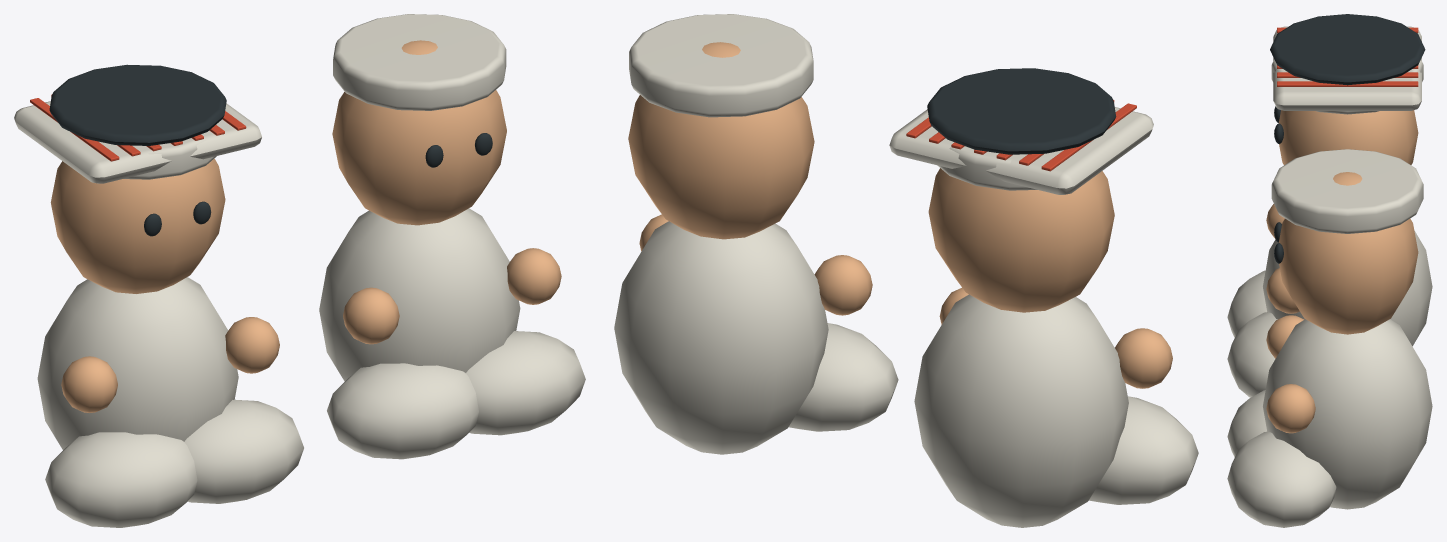
The model's file is NJD-22.glb.
3 views of the same model, side by side, from view 1: azimuth 30°, elevation 25°; view 2: azimuth 150°, elevation 25°; view 3: azimuth 270°, elevation 25° (orthographic). The views are drawn at different scales.
Visible parts, largest first — view 1: seated thobe, seated thobe.001, head.001, head, white cap.001, folded knee.002, folded knee, igal, folded knee.003, folded knee.001, shemagh cloth, hand (+4 smaller); view 2: seated thobe.001, seated thobe, head.001, head, white cap.001, igal, folded knee.002, folded knee, shemagh cloth, hand.002, hand, white cap; view 3: seated thobe.001, head.001, white cap.001, igal, folded knee.003, head, shemagh cloth, folded knee.001, seated thobe, hand.003, folded knee, folded knee.002 (+5 smaller).
Part boxes in pixels (left/top/right/bottom): seated thobe: left=37, top=277, right=238, bottom=449; seated thobe.001: left=319, top=208, right=520, bottom=381; head.001: left=332, top=40, right=506, bottom=225; head: left=50, top=158, right=225, bottom=293; white cap.001: left=333, top=14, right=506, bottom=110; folded knee.002: left=327, top=363, right=478, bottom=459; folded knee: left=45, top=432, right=197, bottom=527; igal: left=49, top=64, right=226, bottom=145; folded knee.003: left=466, top=331, right=585, bottom=435; folded knee.001: left=184, top=399, right=303, bottom=503; shemagh cloth: left=14, top=101, right=261, bottom=183; hand: left=61, top=356, right=117, bottom=412; seated thobe.001: left=614, top=221, right=828, bottom=454; seated thobe: left=914, top=294, right=1128, bottom=527; head.001: left=628, top=42, right=814, bottom=239; head: left=928, top=168, right=1114, bottom=312; white cap.001: left=629, top=14, right=813, bottom=117; igal: left=927, top=68, right=1116, bottom=154; folded knee.002: left=789, top=323, right=898, bottom=431; folded knee: left=1089, top=396, right=1198, bottom=504; shemagh cloth: left=889, top=107, right=1153, bottom=194; hand.002: left=814, top=255, right=872, bottom=315; hand: left=1115, top=328, right=1172, bottom=388; white cap: left=937, top=137, right=1098, bottom=190; seated thobe.001: left=1263, top=319, right=1432, bottom=509; head.001: left=1278, top=172, right=1418, bottom=334; white cap.001: left=1271, top=149, right=1423, bottom=233; igal: left=1270, top=14, right=1425, bottom=85; folded knee.003: left=1227, top=431, right=1336, bottom=527; head: left=1278, top=110, right=1418, bottom=164; shemagh cloth: left=1273, top=26, right=1421, bottom=110; folded knee.001: left=1227, top=312, right=1277, bottom=397; seated thobe: left=1263, top=230, right=1432, bottom=346; hand.003: left=1266, top=384, right=1315, bottom=433; folded knee: left=1227, top=270, right=1266, bottom=337; folded knee.002: left=1227, top=390, right=1266, bottom=457.
Bounding box in the file's own units: 1.5 × 1.05 × 0.58.
